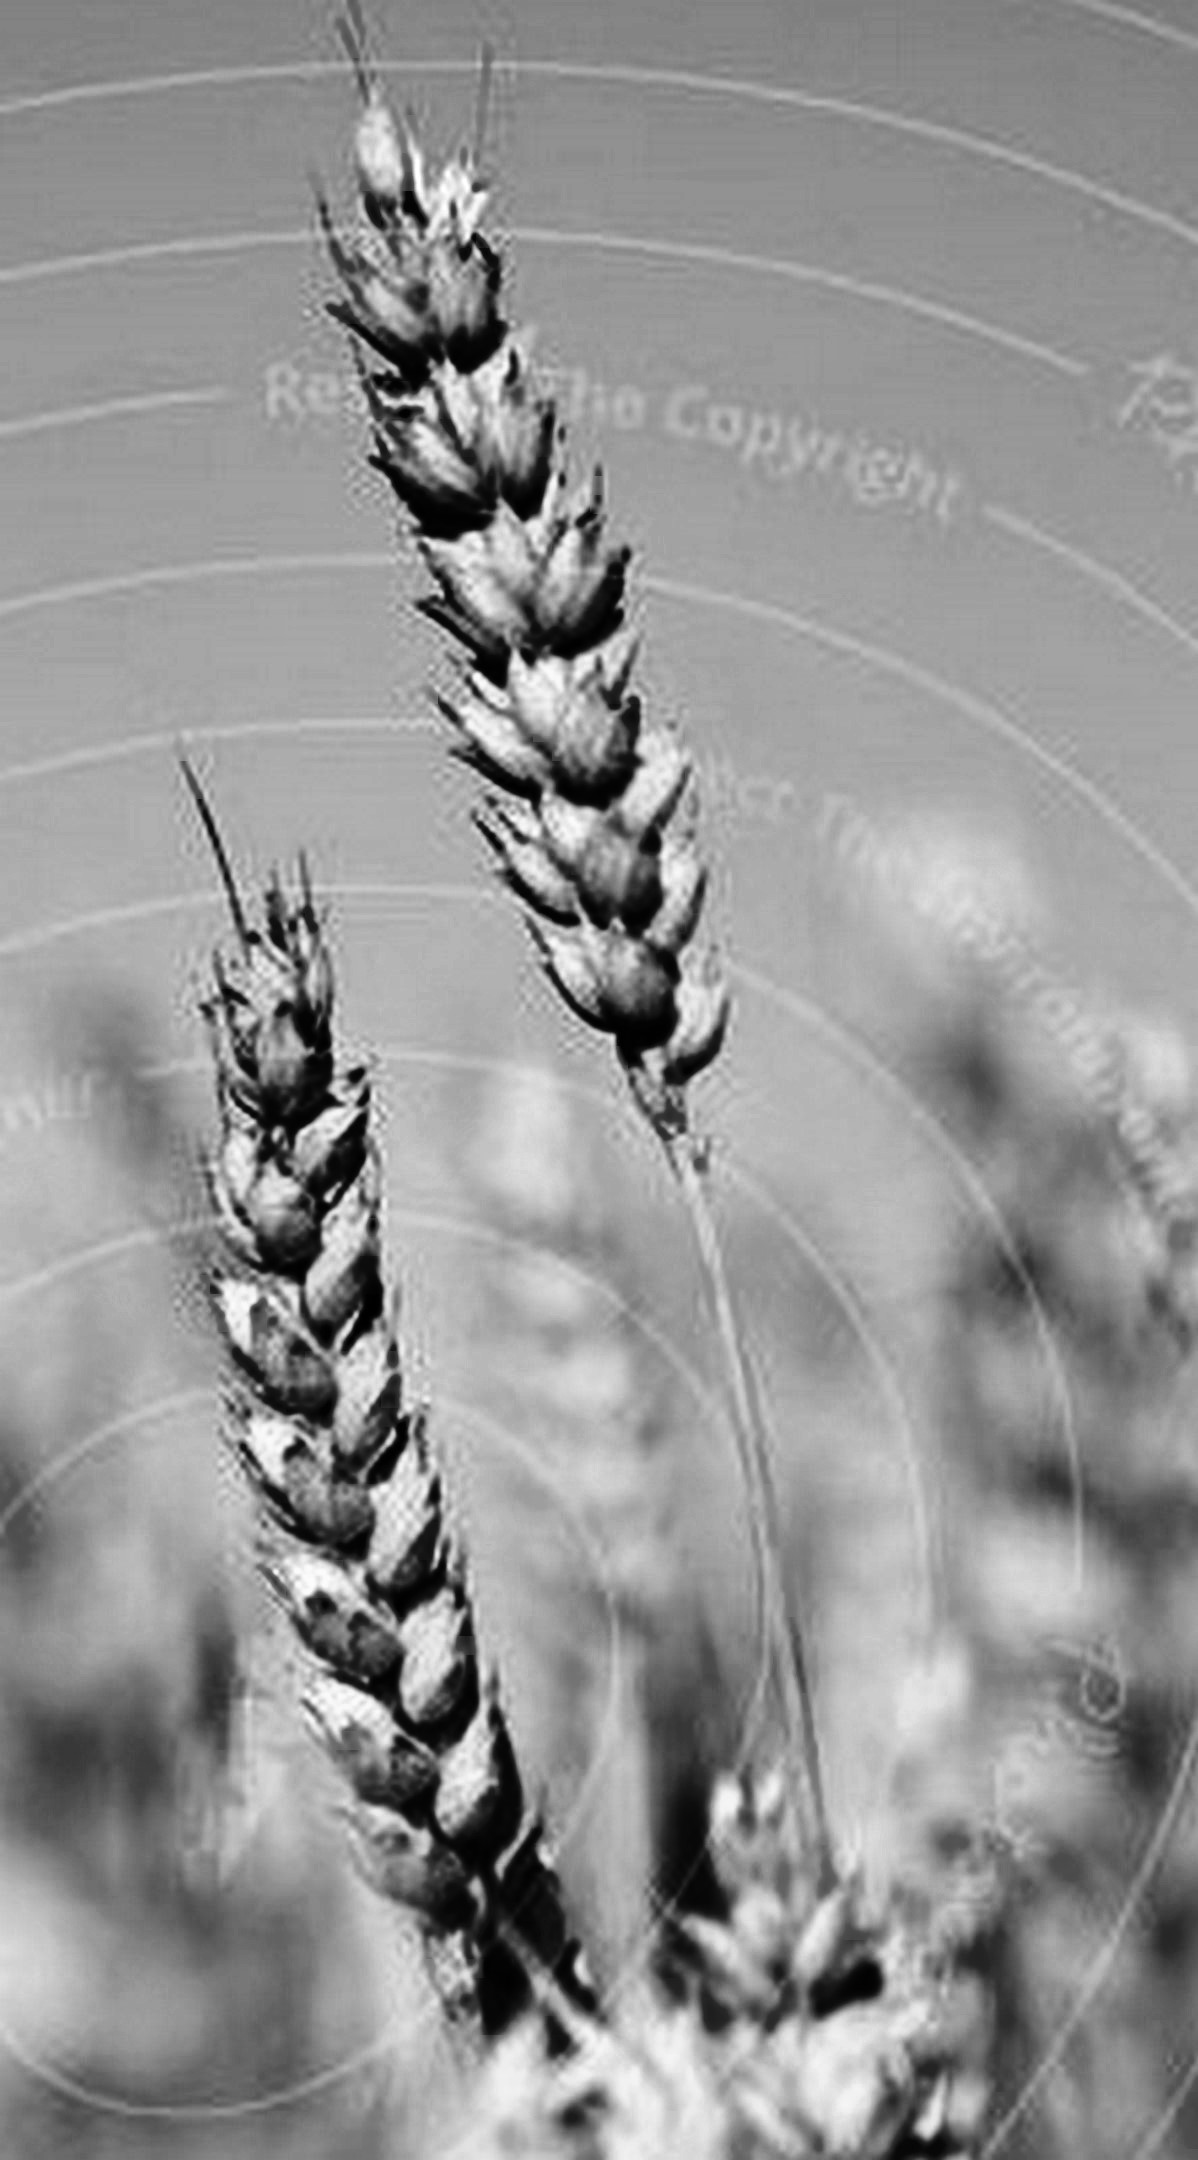Healthy Wheat: (133, 882, 568, 1962)
